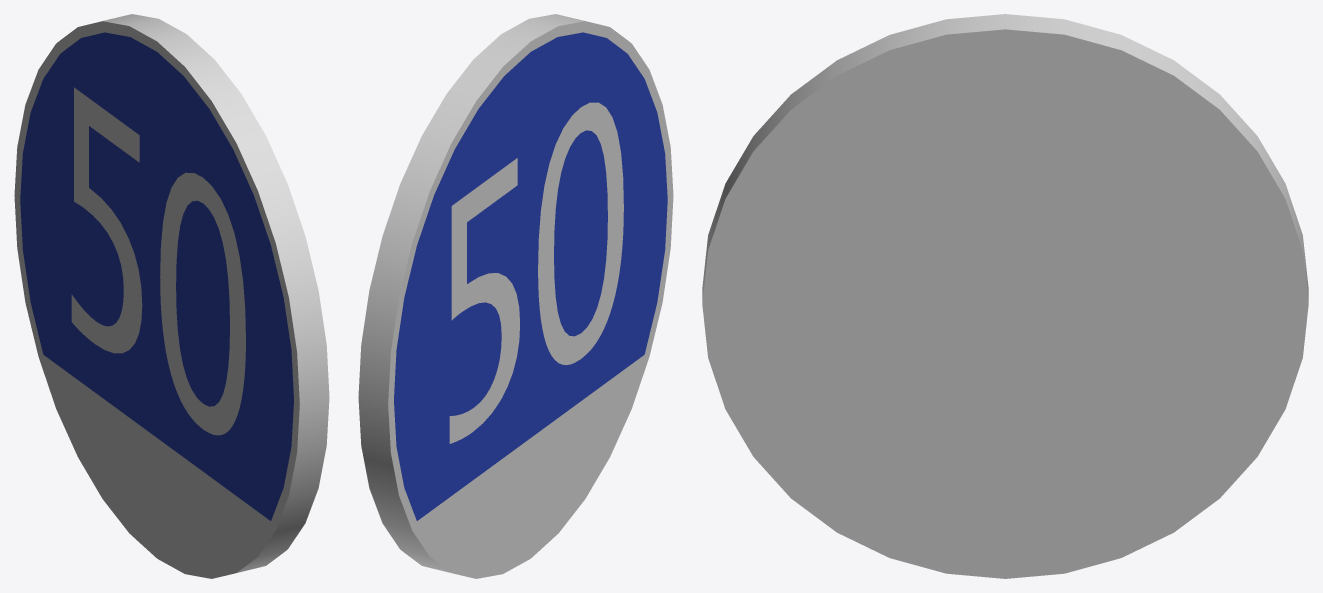
File: Minimum_Speed_Limit_50.fbx
3 renders of one model, left to right at view 1: azimuth 30°, elevation 25°; view 2: azimuth 150°, elevation 25°; view 3: azimuth 270°, elevation 25°, orthographic. The views are drawn at different scales.
Visible parts, largest first — view 1: Minimum_Speed_Limit_50; view 2: Minimum_Speed_Limit_50; view 3: Minimum_Speed_Limit_50.
Boxes of the visible parts, x1=… form: Minimum_Speed_Limit_50: x1=14, y1=14, x2=329, y2=578; Minimum_Speed_Limit_50: x1=358, y1=14, x2=673, y2=578; Minimum_Speed_Limit_50: x1=702, y1=14, x2=1308, y2=578.
Size of the model in its own units: 0.0643 by 1 by 1.
